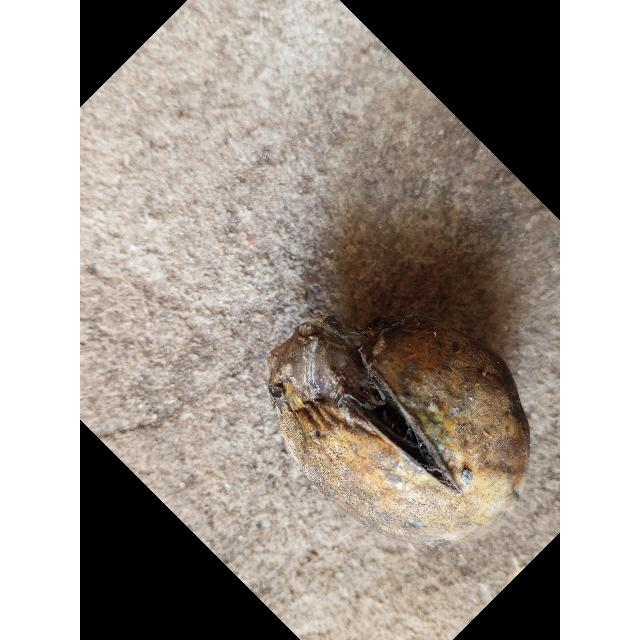damaged: (268, 316, 530, 533)
